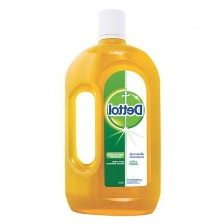cleaning_solution: (61, 5, 164, 218)
